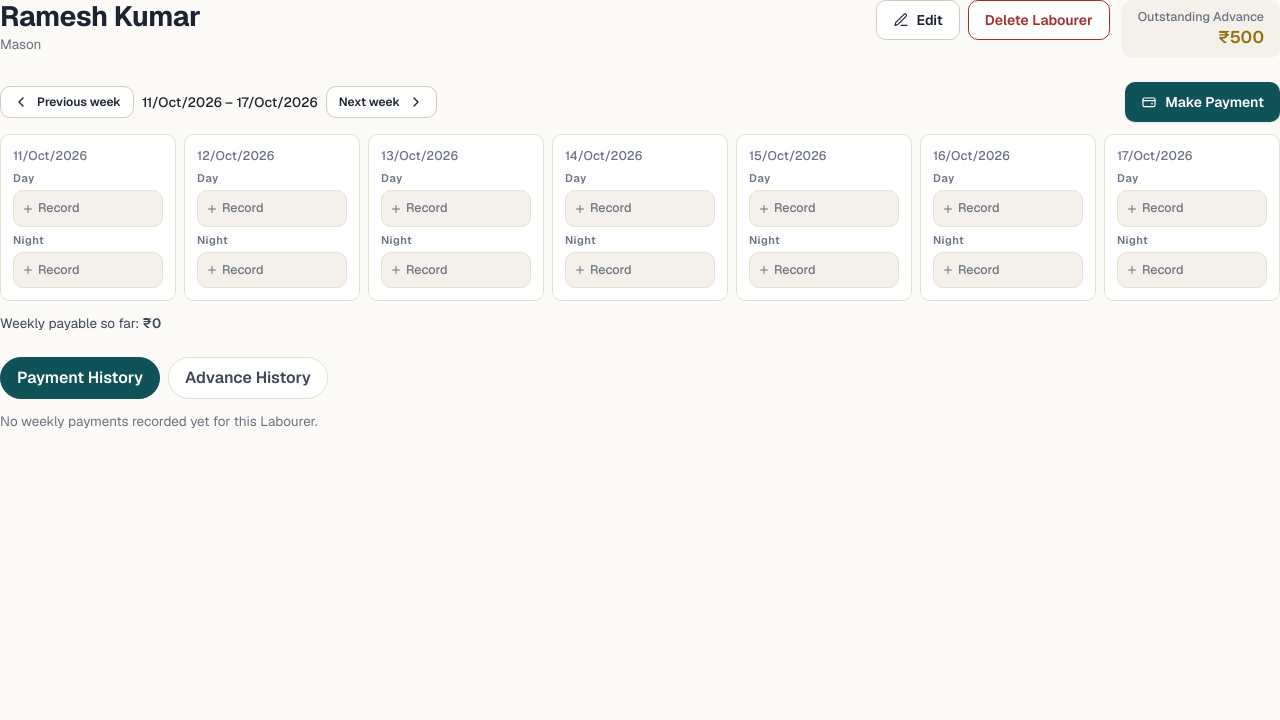
LabourerDetailClient › opens the attendance modal scoped to Night shift when the Night sub-cell is clicked
Click the 8th button "Record".
click(88, 270)  # box [13,252,163,288]
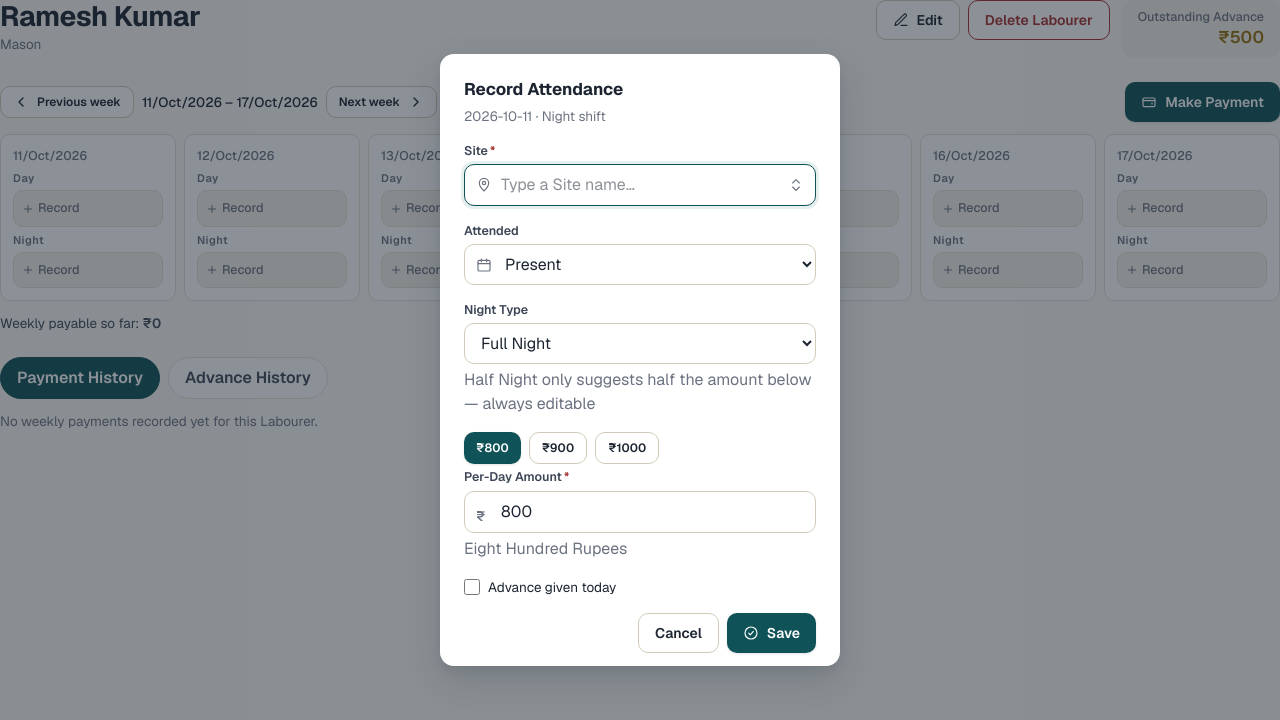
Expected: the dialog "Record Attendance" shows "· Night shift", [440,54,840,666]
